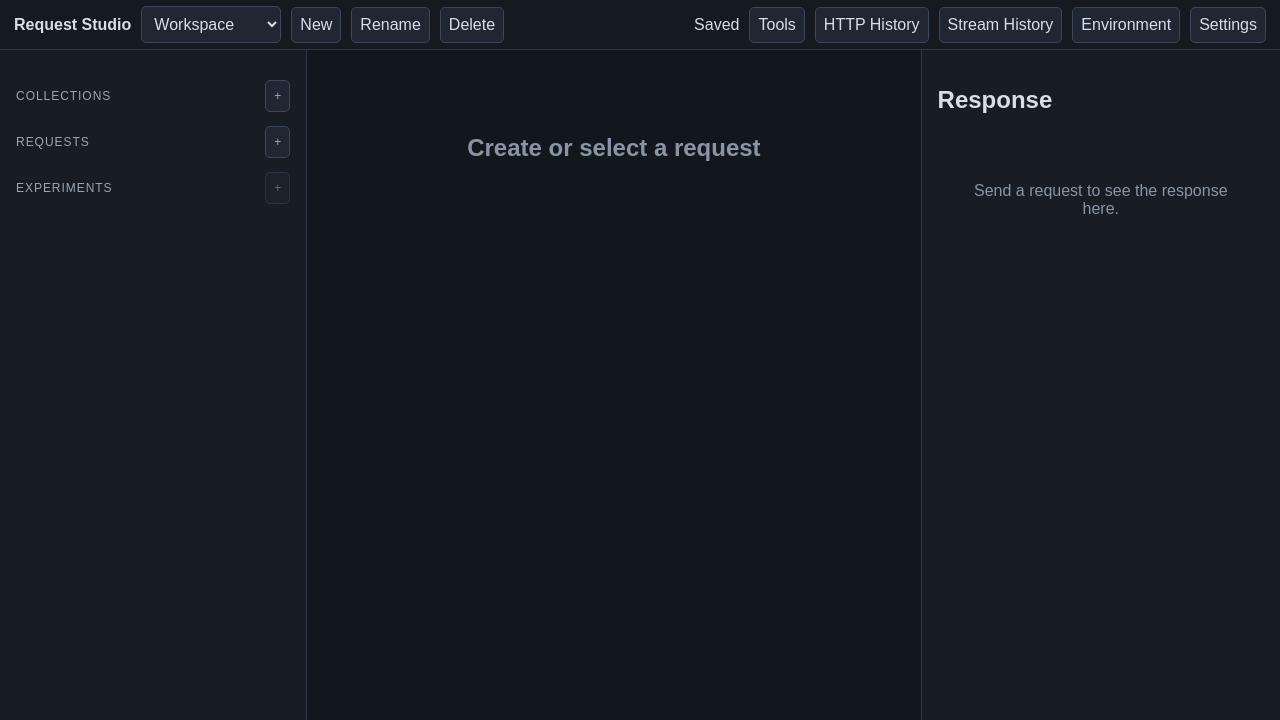
it: opens and closes Workspace Export from the Tools menu
Click the button "Tools". click: (777,24)
box: x1=750 y1=6 x2=805 y2=42
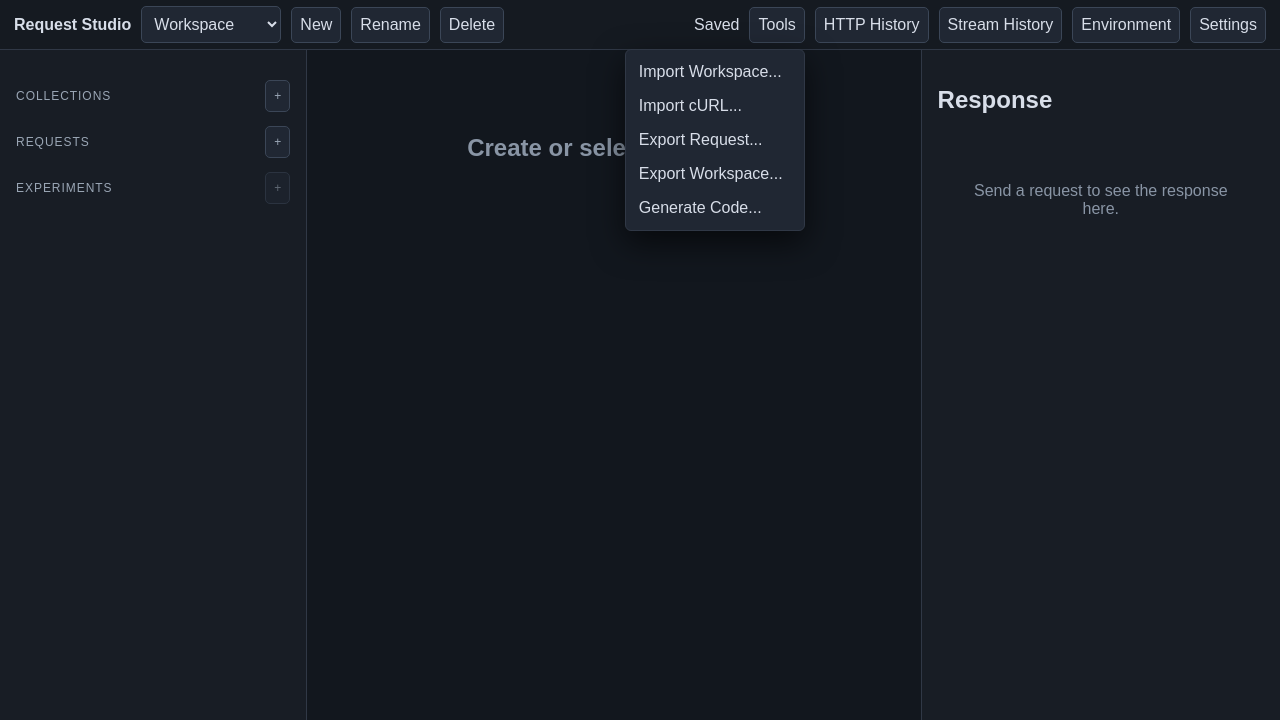
Click the menu item "Export Workspace...". click: (715,174)
box: x1=631 y1=156 x2=799 y2=190
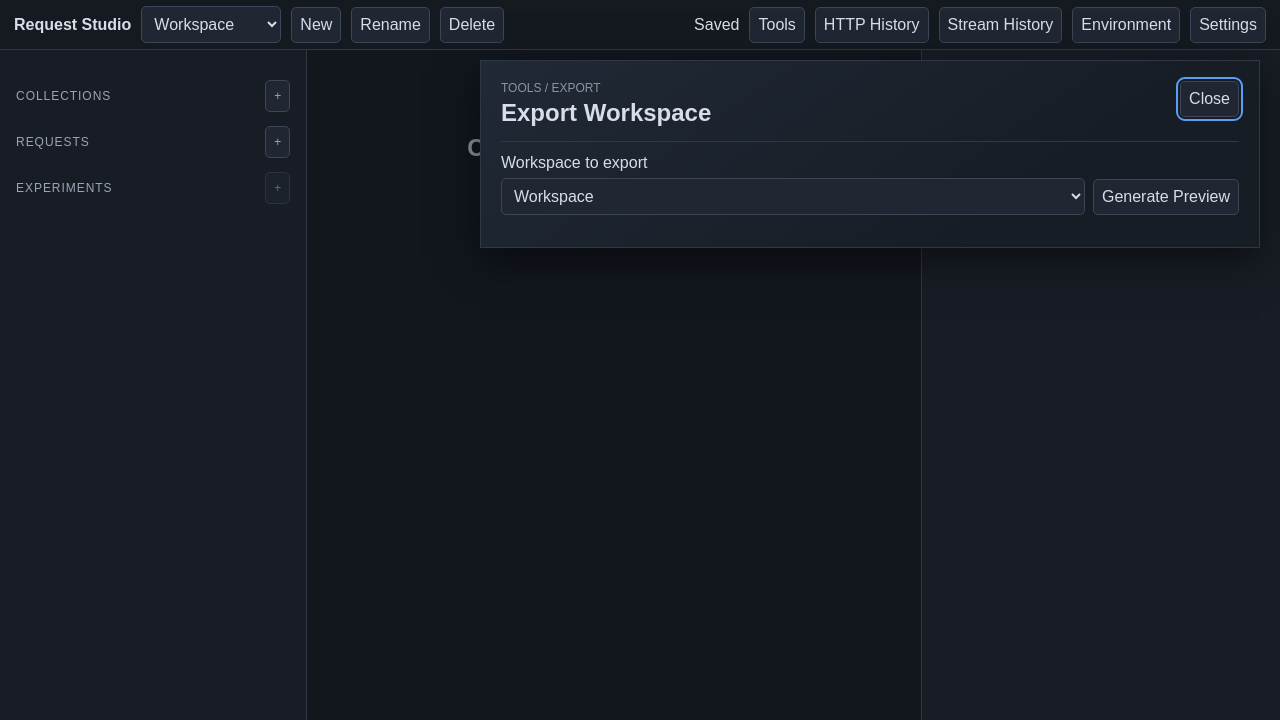
expect the dialog "Export Workspace" is shown: met, box x1=480 y1=60 x2=1260 y2=248
expect the dropdown labelled "Workspace to export" shows "Workspace": met, box x1=501 y1=178 x2=1085 y2=215
Click the button "Close". click: (1210,99)
box: x1=1180 y1=81 x2=1239 y2=117
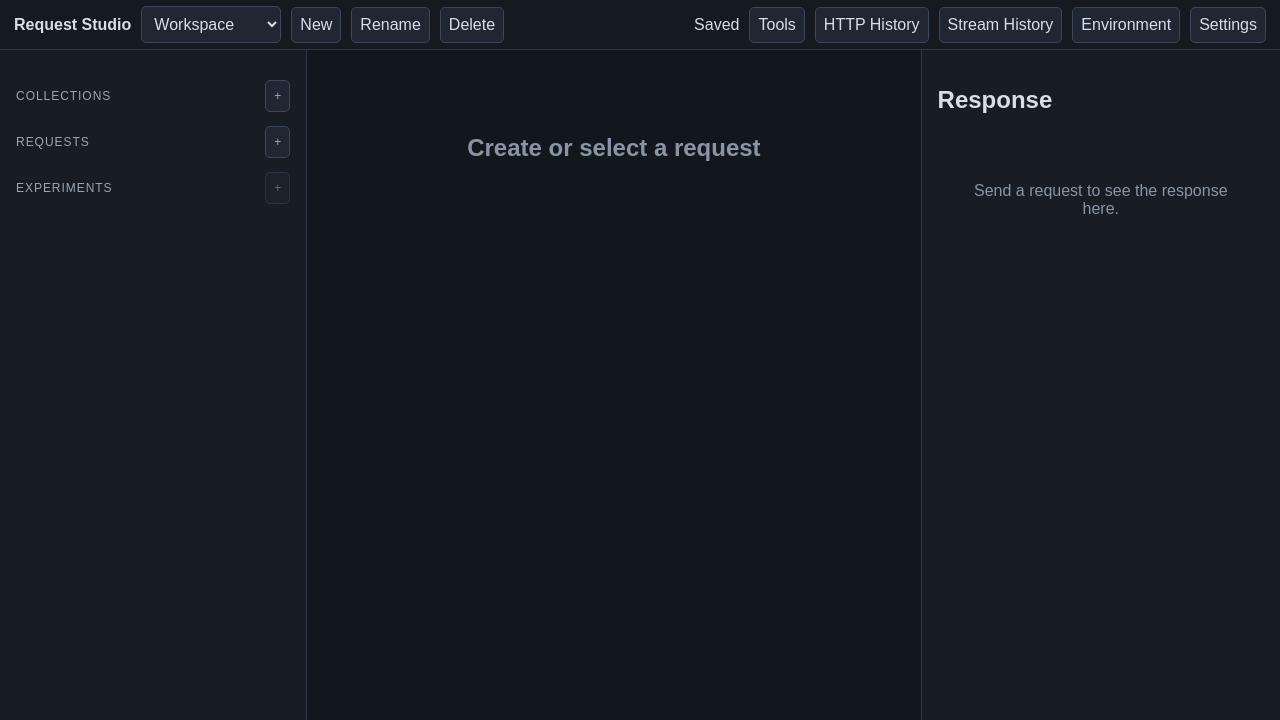
expect the heading "Export Workspace" is gone: met
